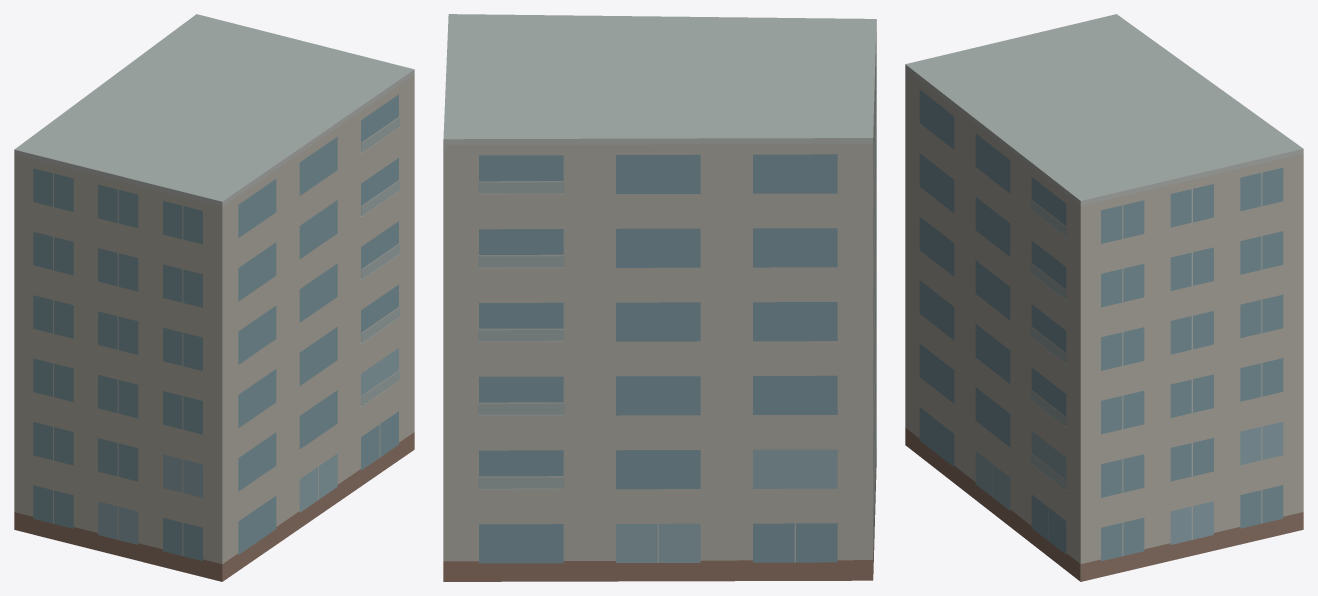
The model's file is survey-upis-32958964.glb.
The picture shows the model from 3 angles, left to right: view 1: azimuth 30°, elevation 25°; view 2: azimuth 150°, elevation 25°; view 3: azimuth 270°, elevation 25°; orthographic projection. The views are drawn at different scales.
Visible parts, largest first — view 1: survey-upis-32958964.tmp; view 2: survey-upis-32958964.tmp; view 3: survey-upis-32958964.tmp.
Boxes of the visible parts, <box> form: survey-upis-32958964.tmp: <box>14,14,414,581</box>; survey-upis-32958964.tmp: <box>443,14,876,581</box>; survey-upis-32958964.tmp: <box>905,14,1303,581</box>.
Size of the model in its own units: 19.28 by 18.3 by 17.35.
